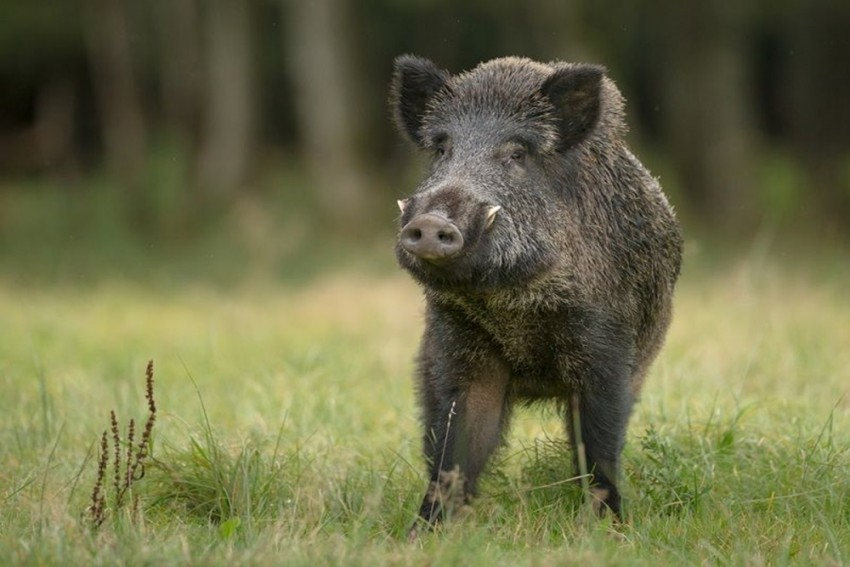wild boar: (367, 40, 675, 535)
